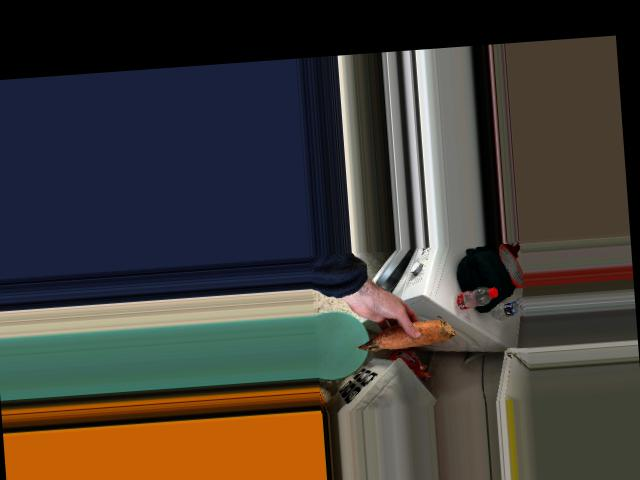sweet_potato: (357, 313, 459, 358)
